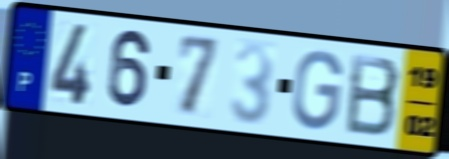3: (229, 39, 277, 127)
4: (48, 19, 95, 109)
6: (106, 28, 153, 112)
7: (176, 33, 220, 120)
B: (343, 51, 403, 140)
G: (289, 48, 345, 133)
